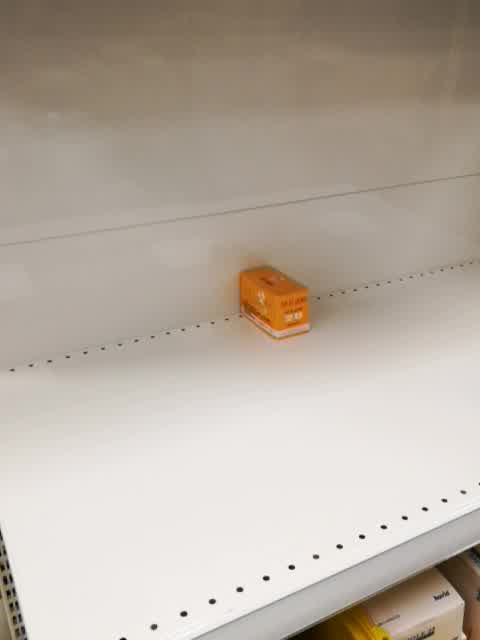jasminetea: (239, 265, 311, 342)
